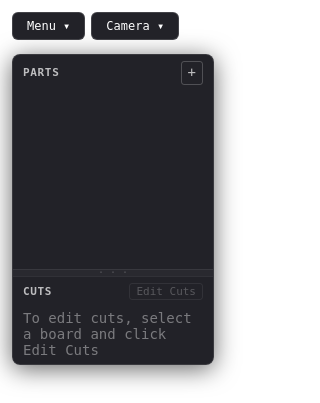
it: Axes toggle button › toggles to "Axes On" after first click
Click the button with id "menu-btn": x=49, y=26 12,12 -> 85,40
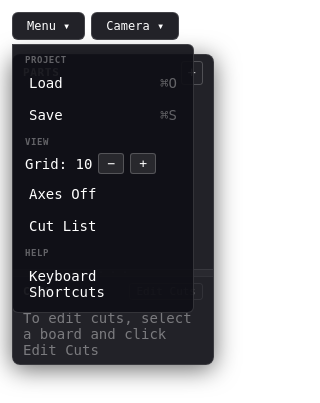
Click the button "Axes Off": x=103, y=194 13,178 -> 193,210
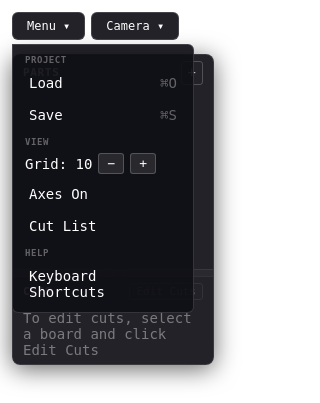
Now the button "Axes On" is shown, box 13,178 -> 193,210
